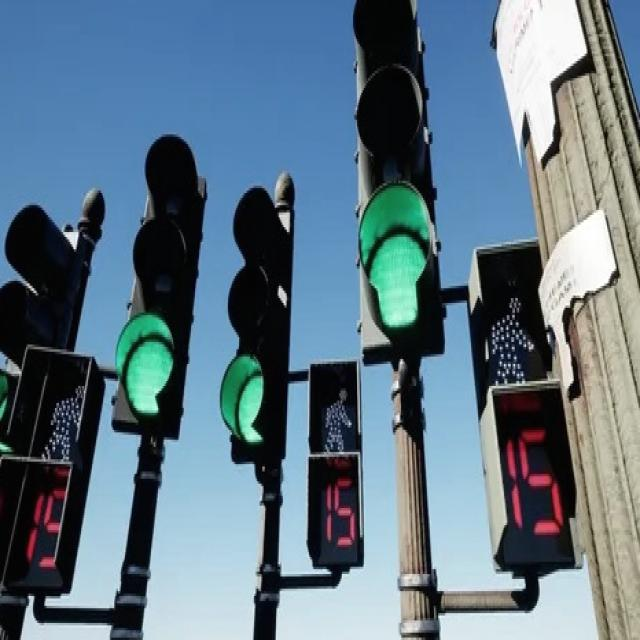yesil: (352, 0, 445, 362), (113, 135, 206, 437), (224, 186, 291, 461)
